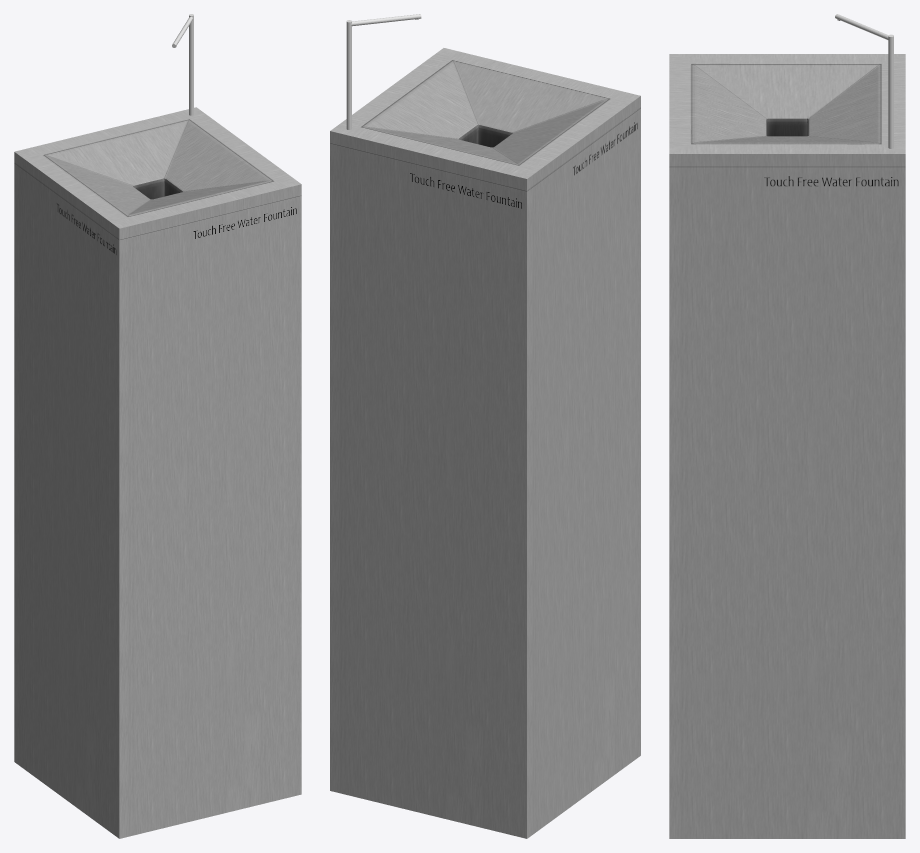
File: bubbler model 1 FBX.fbx
3 views of the same model, side by side, from view 1: azimuth 30°, elevation 25°; view 2: azimuth 150°, elevation 25°; view 3: azimuth 270°, elevation 25° (orthographic). The views are drawn at different scales.
Parts seen in each view (by area): view 1: main unit, pipe 1; view 2: main unit, pipe 1; view 3: main unit, pipe 1.
Boxes of the visible parts, x1,y1,x2,y2 form: main unit: (14,107,301,838); pipe 1: (172,14,193,115); main unit: (330,48,640,838); pipe 1: (346,14,421,129); main unit: (669,54,905,838); pipe 1: (835,14,893,148).
Bounding box in the file's own units: 100 × 372 × 100.
Materials: 1 (1 with a texture image).
